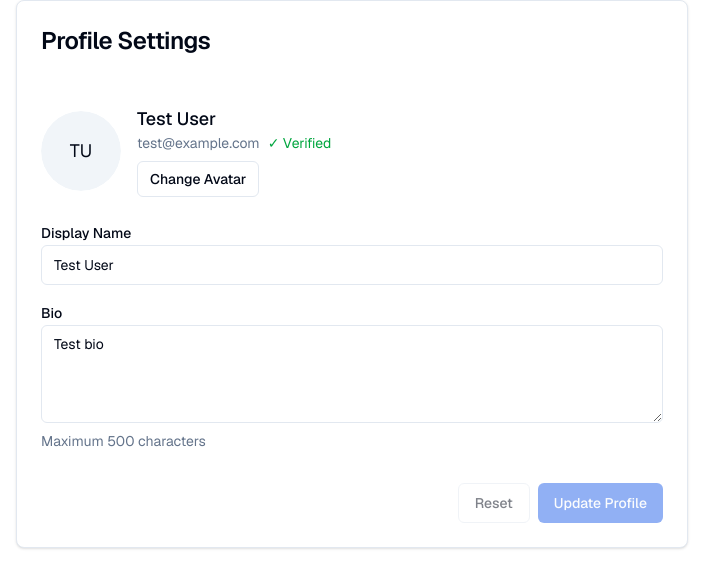
it: ProfileForm Component › should enable submit button when form is dirty
Replace the text in the field labelled "Display Name" with "Updated Name" at (352, 265), box [41,245,663,285]
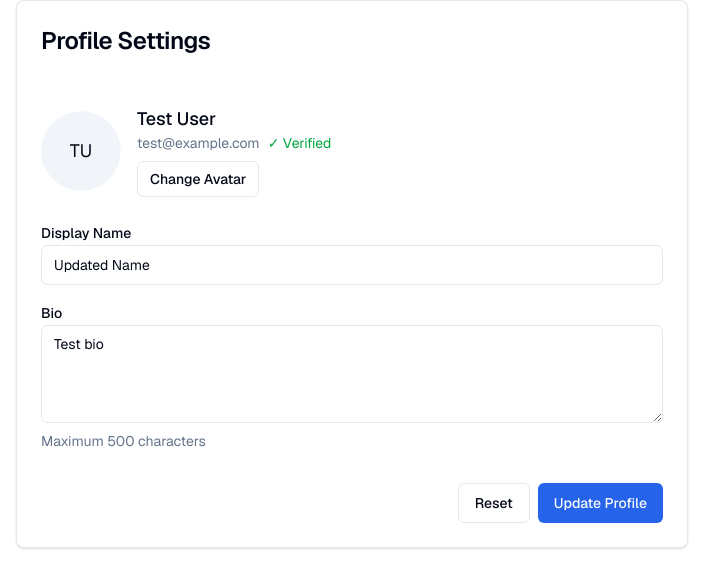
Now the button "Update Profile" is enabled, box [538,483,663,523]
